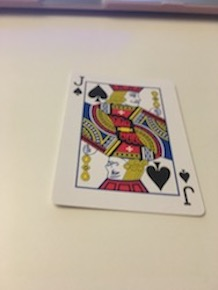JackOfSpades: (48, 65, 212, 219)
